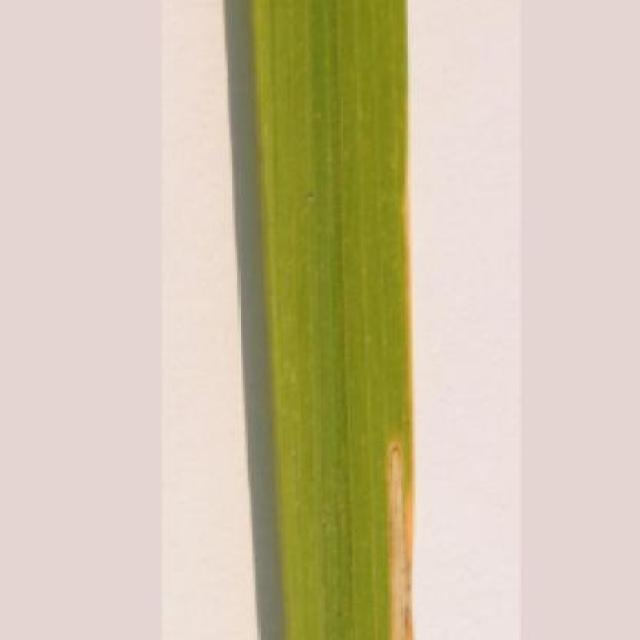Brown_Spot: (249, 0, 422, 640)
